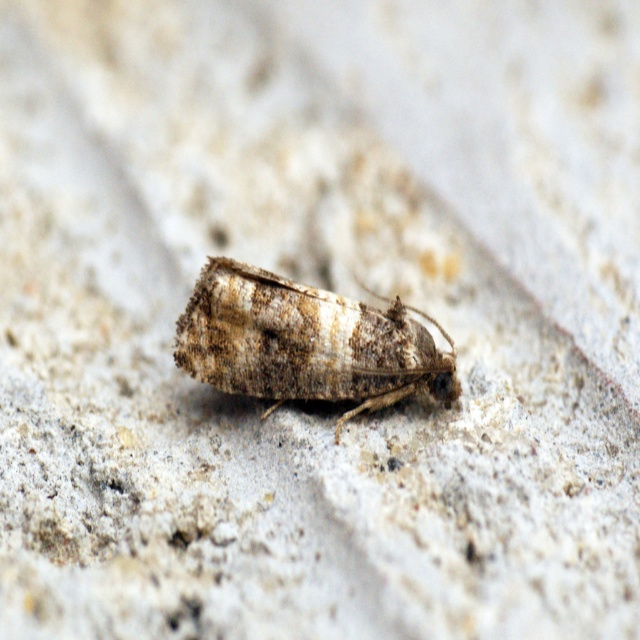Moths and butterflies: (174, 253, 466, 450)
